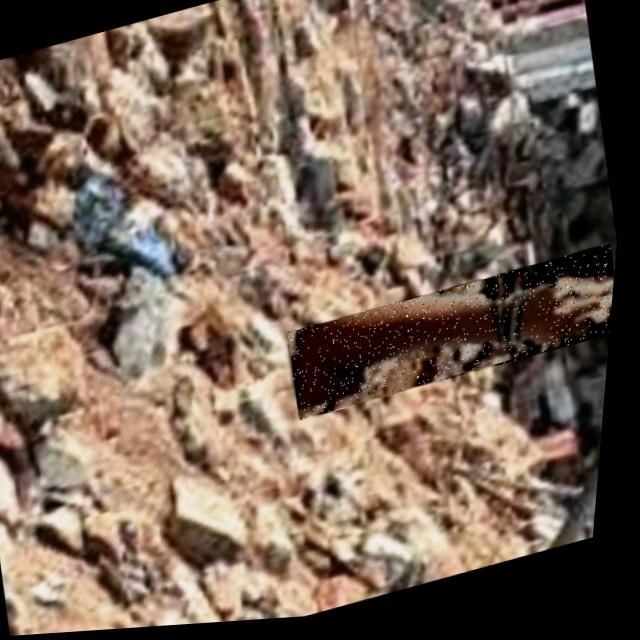Person in Rubble: (286, 251, 622, 426)
